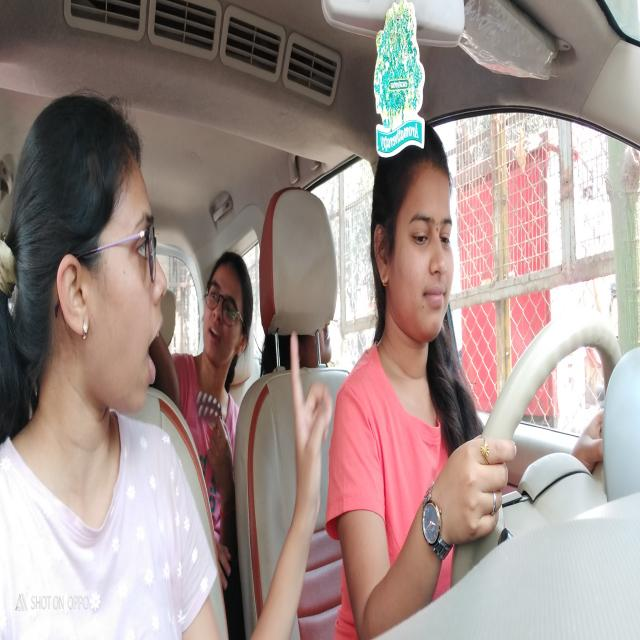person: (66, 113, 167, 408), (382, 155, 462, 345), (200, 256, 252, 368), (306, 333, 334, 364)
